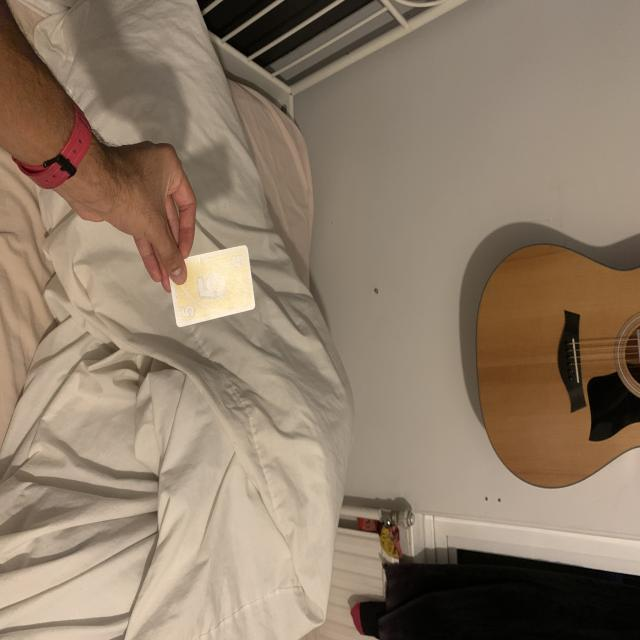lyellow-5: (228, 252, 246, 273)
